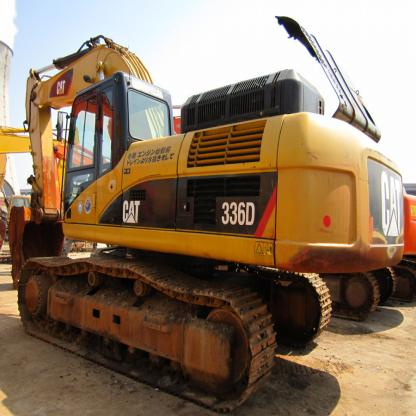excavator: (12, 28, 410, 410)
